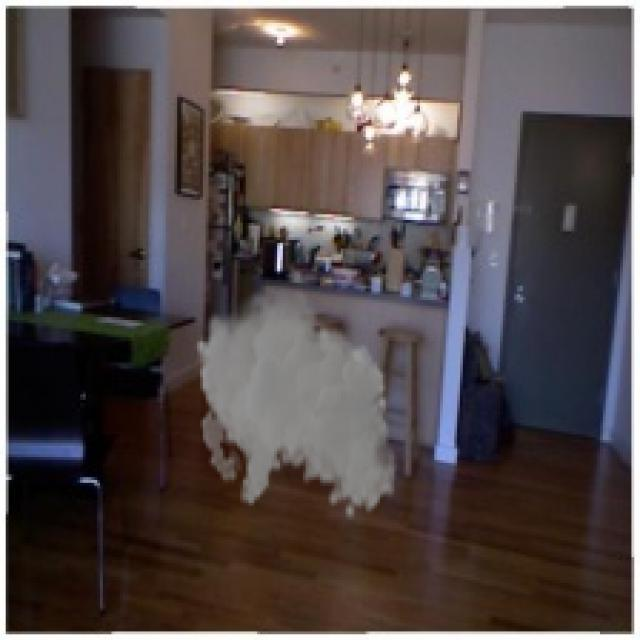Smoke: (194, 280, 397, 520)
